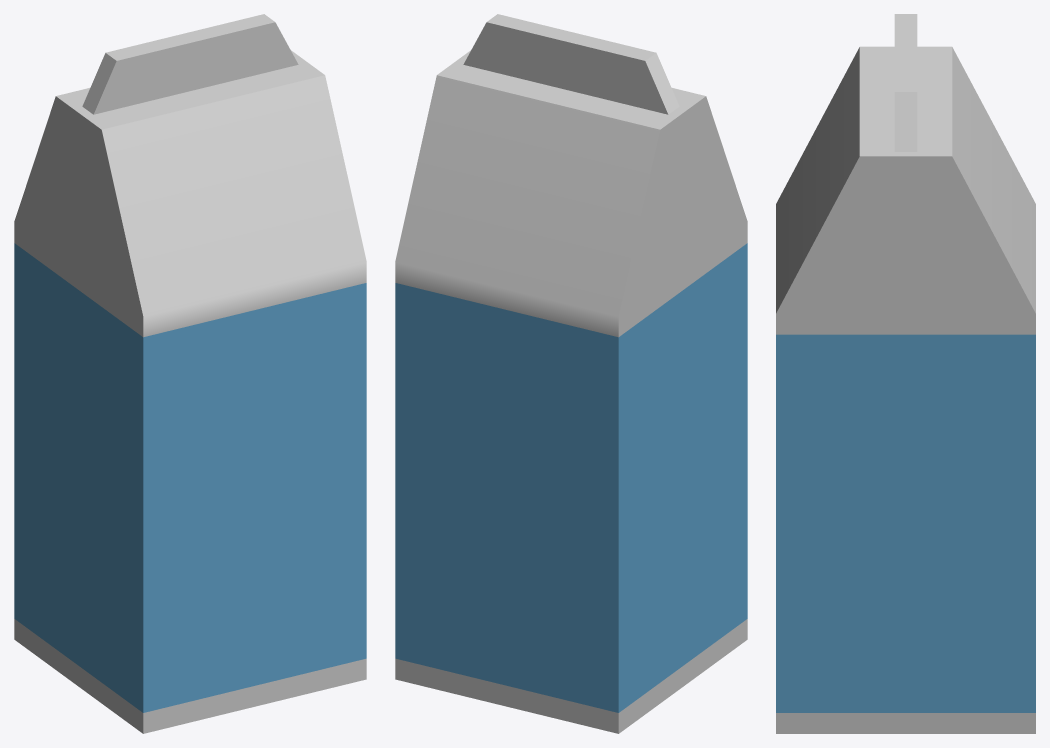
The model's file is SM_Single_Milk.fbx.
The picture shows the model from 3 angles, left to right: view 1: azimuth 30°, elevation 25°; view 2: azimuth 150°, elevation 25°; view 3: azimuth 270°, elevation 25°; orthographic projection.
Visible parts, largest first — view 1: pCube14; view 2: pCube14; view 3: pCube14.
Boxes of the visible parts, x1,y1,x2,y2 form: pCube14: (14,14,366,733); pCube14: (395,14,747,733); pCube14: (776,14,1035,733).
Size of the model in its own units: 0.1025 by 0.2726 by 0.1025.
